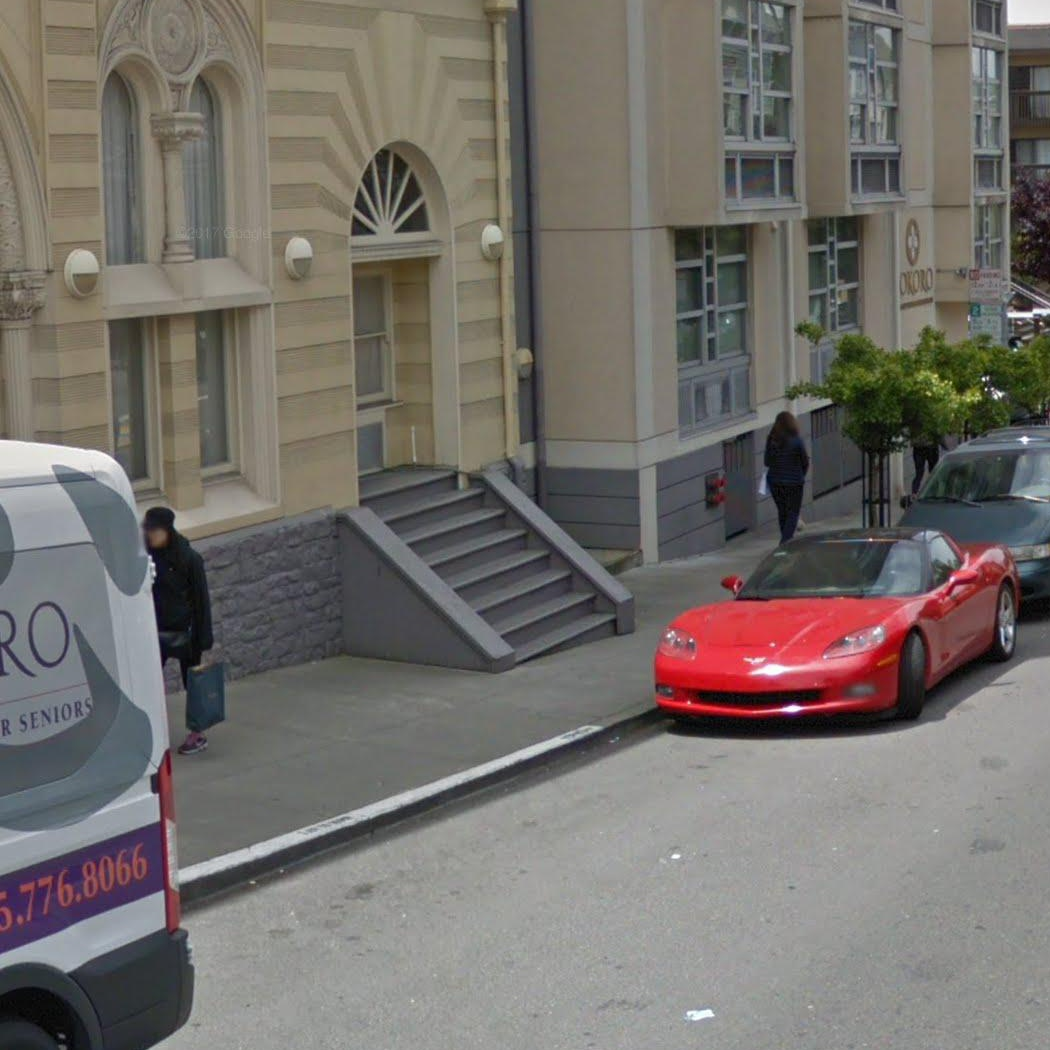2 Hour Parking: (968, 303, 1004, 348)
No Parking: (967, 267, 1003, 305)
